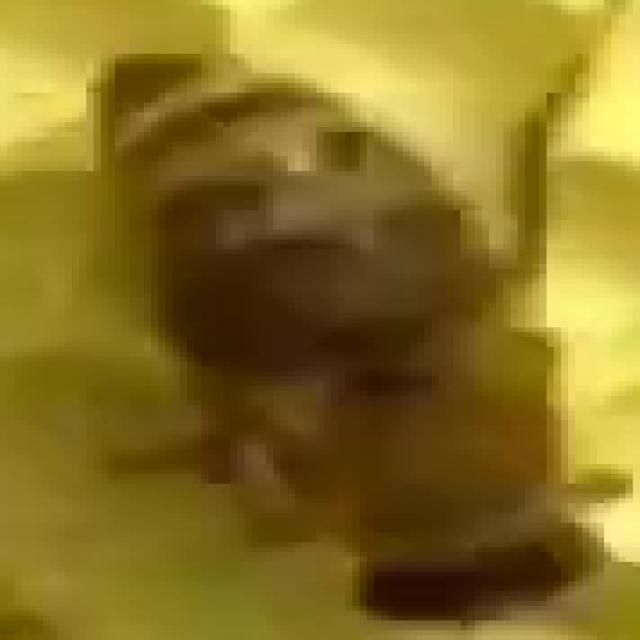honeybee: (72, 44, 622, 638)
